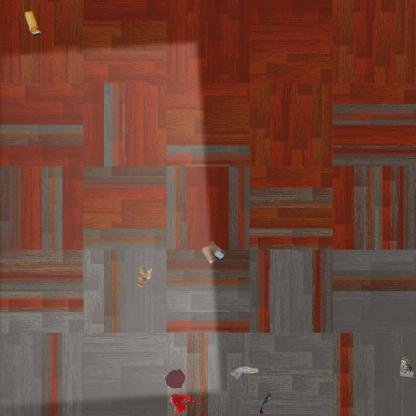dirty: (199, 240, 227, 266), (22, 9, 43, 36), (229, 365, 260, 382), (398, 355, 416, 379), (136, 264, 153, 288), (258, 391, 274, 415)
liquid: (168, 392, 194, 416), (164, 368, 186, 390)
